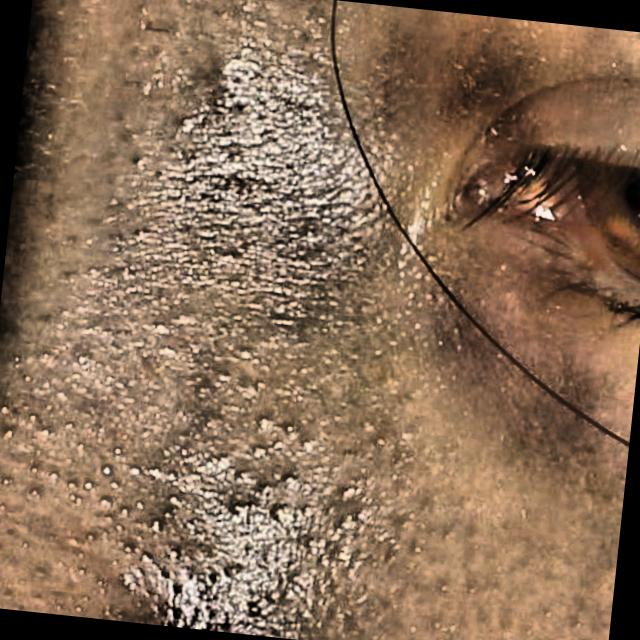whiteheads: (279, 466, 310, 499), (153, 341, 186, 367), (254, 408, 278, 441), (124, 152, 150, 180), (334, 480, 362, 506), (172, 112, 196, 142), (232, 344, 256, 370), (228, 496, 252, 522), (233, 466, 260, 488), (242, 599, 266, 623), (160, 543, 184, 565), (394, 424, 417, 446), (270, 501, 292, 524), (222, 560, 247, 580), (148, 514, 167, 536)
